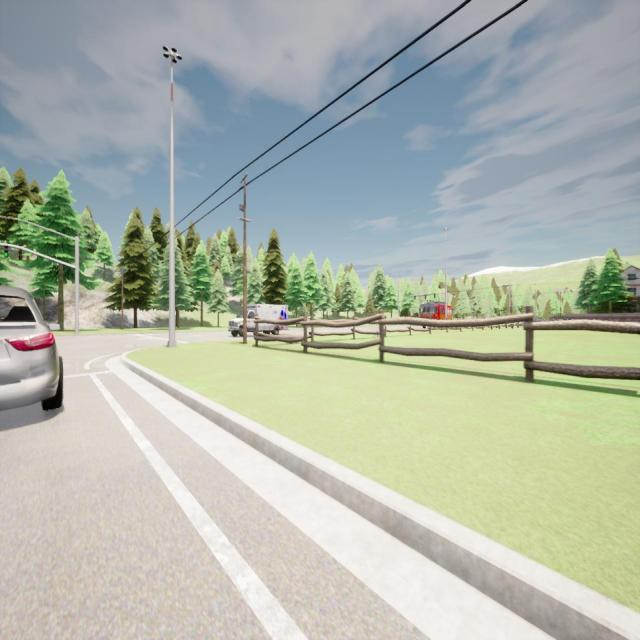Vehicle: (0, 286, 62, 410), (228, 304, 288, 337), (418, 302, 452, 320)
traffic_light: (4, 245, 8, 257), (414, 296, 416, 300), (425, 294, 426, 300), (434, 293, 435, 299)
